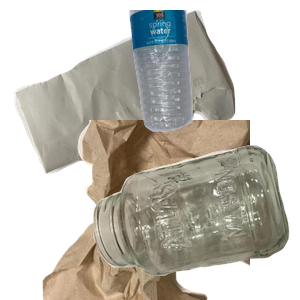glass: (91, 143, 300, 300)
paper: (12, 10, 240, 176)
plastic: (127, 10, 300, 134)
trash: (40, 120, 280, 300)
